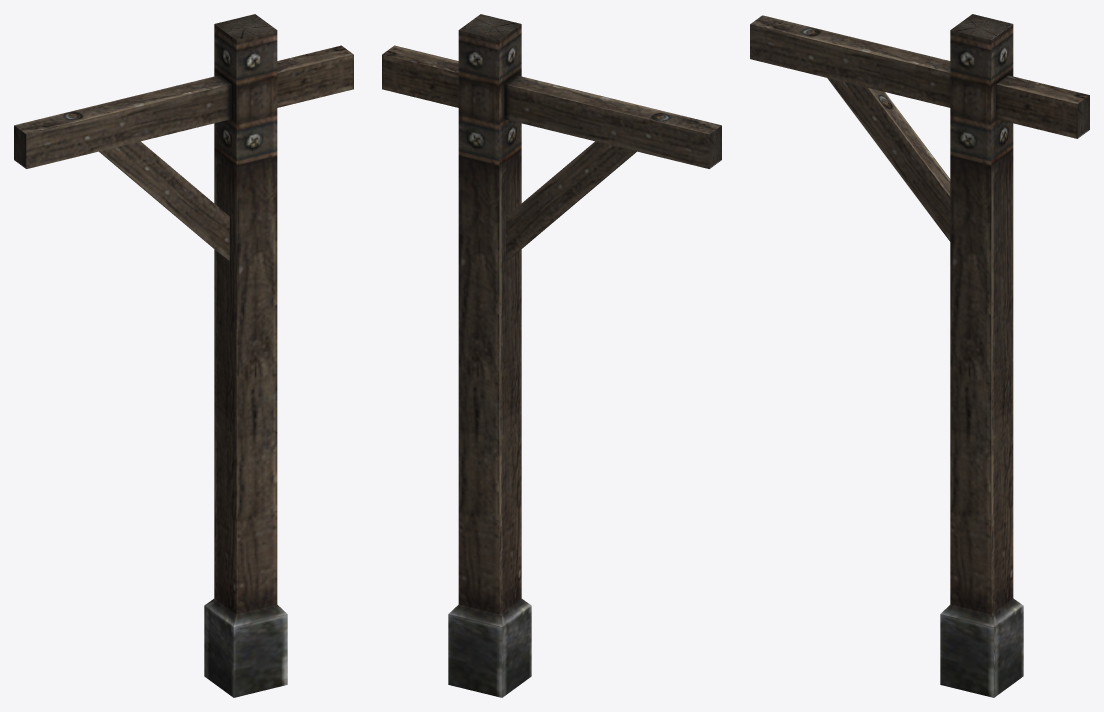
The model's file is GY_ludeng001.fbx.
The picture shows the model from 3 angles, left to right: view 1: azimuth 30°, elevation 25°; view 2: azimuth 150°, elevation 25°; view 3: azimuth 330°, elevation 25°; orthographic projection.
Parts seen in each view (by area): view 1: GY_ludeng001; view 2: GY_ludeng001; view 3: GY_ludeng001.
Boxes of the visible parts, x1,y1,x2,y2 form: GY_ludeng001: (14,14,353,697); GY_ludeng001: (382,14,721,697); GY_ludeng001: (750,14,1089,697).
Bounding box in the file's own units: 242 × 462 × 37.77.
